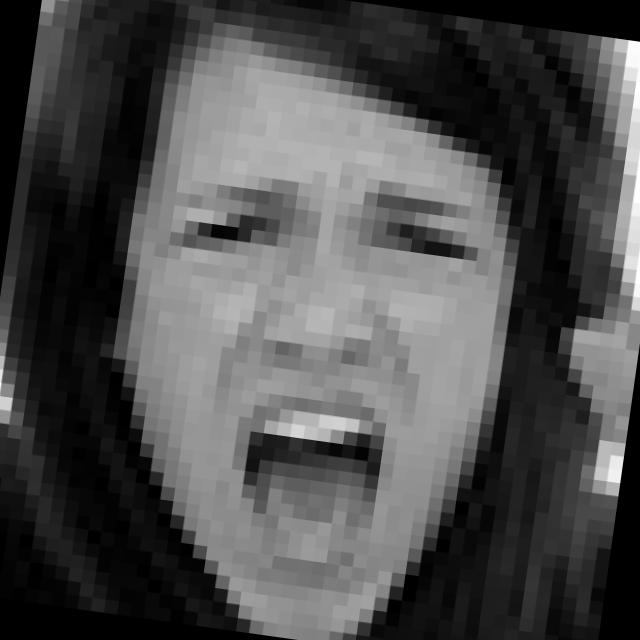angry: (116, 151, 494, 606)
